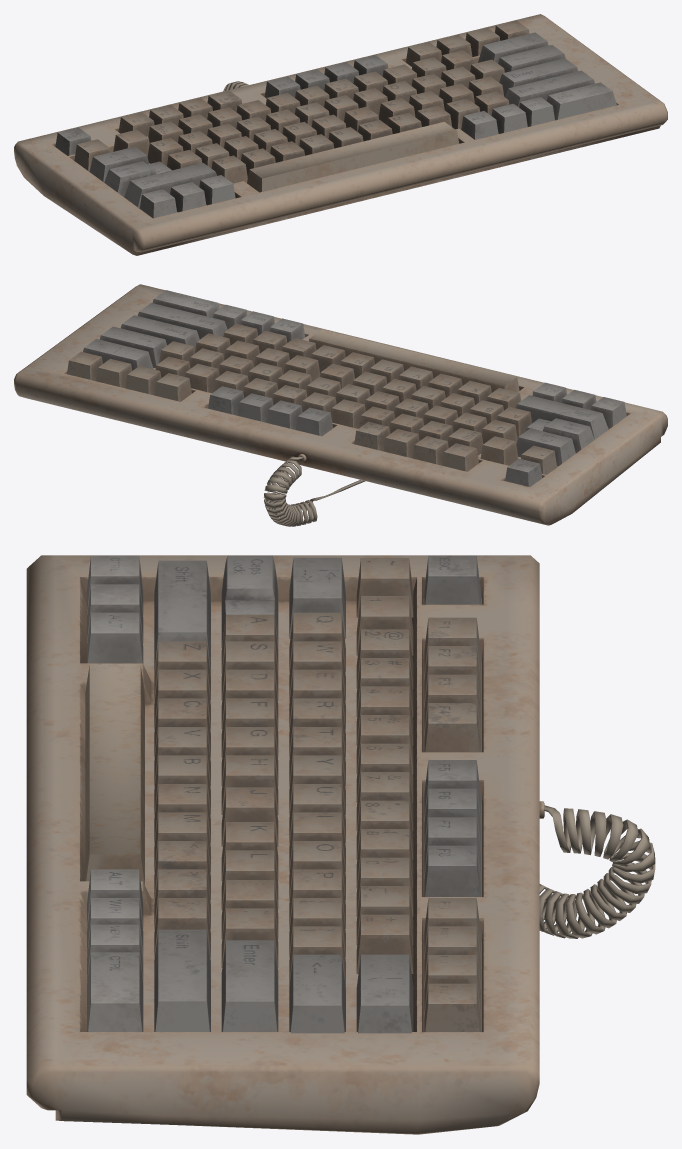
The model's file is KeyboardFinalModel.fbx.
3 views of the same model, one above another, from view 1: azimuth 30°, elevation 25°; view 2: azimuth 150°, elevation 25°; view 3: azimuth 270°, elevation 25° (orthographic). The views are drawn at different scales.
Visible parts, largest first — view 1: KeyboardBody, KeyboardKeys.010, KeyboardKeys.013, KeyboardKeys.021, KeyboardKeys.012, KeyboardKeys.045, KeyboardKeys.050, KeyboardKeys.048, KeyboardKeys.008, KeyboardKeys.058, KeyboardKeys.022, KeyboardKeys.014 (+63 smaller); view 2: KeyboardBody, KeyboardKeys.010, KeyboardKeys.021, KeyboardKeys.012, KeyboardKeys.045, KeyboardKeys.008, KeyboardKeys.050, KeyboardKeys.058, KeyboardKeys.048, KeyboardKeys.013, KeyboardKeys.072, KeyboardKeys.035 (+63 smaller); view 3: KeyboardBody, KeyboardKeys.010, KeyboardKeys.012, KeyboardKeys.045, KeyboardKeys.021, KeyboardKeys.050, KeyboardKeys.013, KeyboardKeys.058, KeyboardKeys.048, KeyboardKeys.008, KeyboardKeys.032, KeyboardKeys.023 (+63 smaller).
Part boxes in pixels (bbox=[...]): KeyboardBody: bbox=[14, 14, 667, 255]; KeyboardKeys.010: bbox=[247, 121, 459, 192]; KeyboardKeys.013: bbox=[546, 82, 616, 120]; KeyboardKeys.021: bbox=[124, 163, 216, 208]; KeyboardKeys.012: bbox=[505, 70, 595, 107]; KeyboardKeys.045: bbox=[499, 58, 578, 96]; KeyboardKeys.050: bbox=[478, 32, 548, 63]; KeyboardKeys.048: bbox=[104, 161, 171, 196]; KeyboardKeys.008: bbox=[89, 146, 148, 182]; KeyboardKeys.058: bbox=[498, 45, 565, 72]; KeyboardKeys.022: bbox=[139, 189, 176, 218]; KeyboardKeys.014: bbox=[461, 111, 498, 139]; KeyboardBody: bbox=[14, 284, 667, 526]; KeyboardKeys.010: bbox=[309, 329, 519, 392]; KeyboardKeys.021: bbox=[515, 395, 608, 439]; KeyboardKeys.012: bbox=[137, 303, 227, 339]; KeyboardKeys.045: bbox=[120, 315, 199, 350]; KeyboardKeys.008: bbox=[516, 428, 575, 466]; KeyboardKeys.050: bbox=[83, 339, 153, 370]; KeyboardKeys.058: bbox=[99, 326, 166, 368]; KeyboardKeys.048: bbox=[525, 418, 594, 453]; KeyboardKeys.013: bbox=[152, 290, 219, 317]; KeyboardKeys.072: bbox=[480, 436, 518, 465]; KeyboardKeys.035: bbox=[295, 407, 332, 436]; KeyboardBody: bbox=[26, 555, 655, 1134]; KeyboardKeys.010: bbox=[85, 664, 144, 884]; KeyboardKeys.012: bbox=[154, 929, 210, 1031]; KeyboardKeys.045: bbox=[221, 940, 278, 1031]; KeyboardKeys.021: bbox=[154, 560, 210, 675]; KeyboardKeys.050: bbox=[356, 954, 413, 1033]; KeyboardKeys.013: bbox=[87, 952, 143, 1031]; KeyboardKeys.058: bbox=[289, 954, 345, 1033]; KeyboardKeys.048: bbox=[221, 555, 278, 647]; KeyboardKeys.008: bbox=[289, 557, 345, 638]; KeyboardKeys.032: bbox=[424, 845, 480, 896]; KeyboardKeys.023: bbox=[87, 612, 143, 663].
Bounding box in the file's own units: 1357 × 216 × 699.
